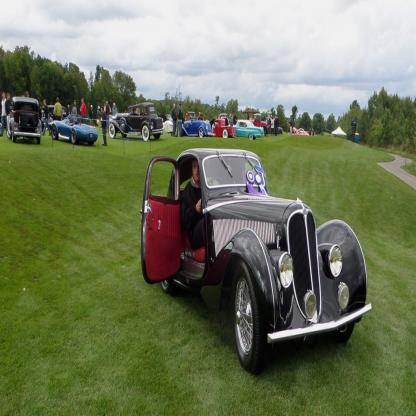Car: (142, 151, 376, 367), (109, 102, 165, 141), (51, 112, 103, 148), (6, 96, 45, 141), (181, 119, 217, 137), (212, 119, 238, 140), (239, 119, 265, 140), (293, 127, 309, 138)
